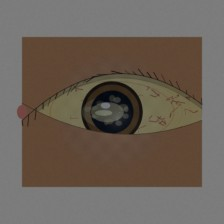corneal_ulcer: (81, 91, 134, 134)
